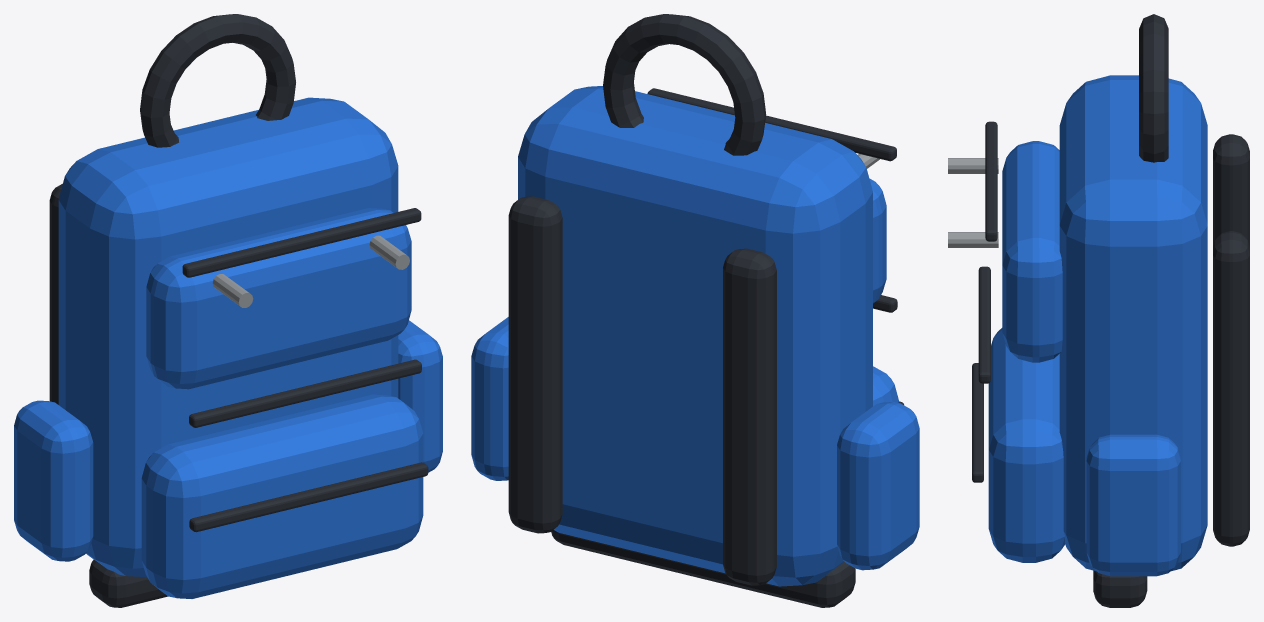
The model's file is sac_yvane_bleu.glb.
3 views of the same model, side by side, from view 1: azimuth 30°, elevation 25°; view 2: azimuth 150°, elevation 25°; view 3: azimuth 270°, elevation 25° (orthographic). The views are drawn at different scales.
Parts seen in each view (by area): view 1: Corps, PocheBasse, PocheHaute, PocheLateraleG, Poignee, PocheLateraleD, ZipBas, ZipHaut, ZipMilieu, BretelleG, FondRenforce, Tirette2 (+1 smaller); view 2: Corps, BretelleD, BretelleG, PocheLateraleG, Poignee, PocheLateraleD, FondRenforce, ZipHaut, PocheHaute, PocheBasse; view 3: Corps, PocheBasse, PocheLateraleD, PocheHaute, BretelleD, Poignee, BretelleG, FondRenforce, ZipHaut, ZipMilieu, ZipBas, Tirette2 (+1 smaller).
Boxes of the visible parts, x1,y1,x2,y2 form: Corps: (58,97,398,577); PocheBasse: (141,394,423,598); PocheHaute: (146,208,411,389); PocheLateraleG: (14,400,93,561); Poignee: (140,14,295,147); PocheLateraleD: (398,320,442,472); ZipBas: (189,462,428,532); ZipHaut: (182,208,421,277); ZipMilieu: (189,359,421,427); BretelleG: (49,184,62,404); FondRenforce: (89,559,167,607); Tirette2: (369,235,409,269); Corps: (518,86,872,586); BretelleD: (508,196,562,533); BretelleG: (723,248,776,585); PocheLateraleG: (837,402,919,570); Poignee: (603,14,766,155); PocheLateraleD: (471,317,508,480); FondRenforce: (551,530,855,607); ZipHaut: (647,88,896,161); PocheHaute: (869,178,886,303); PocheBasse: (873,366,898,406); Corps: (1059,75,1207,571); PocheBasse: (988,328,1065,562); PocheLateraleD: (1086,434,1180,576); PocheHaute: (1002,141,1062,362); BretelleD: (1213,231,1249,546); Poignee: (1139,14,1168,162); BretelleG: (1213,134,1249,247); FondRenforce: (1093,570,1147,607); ZipHaut: (985,121,997,241); ZipMilieu: (978,266,990,383); ZipBas: (972,363,983,482); Tirette2: (948,232,998,247).
Bounding box in the file's own units: 0.66 × 0.862 × 0.448.
